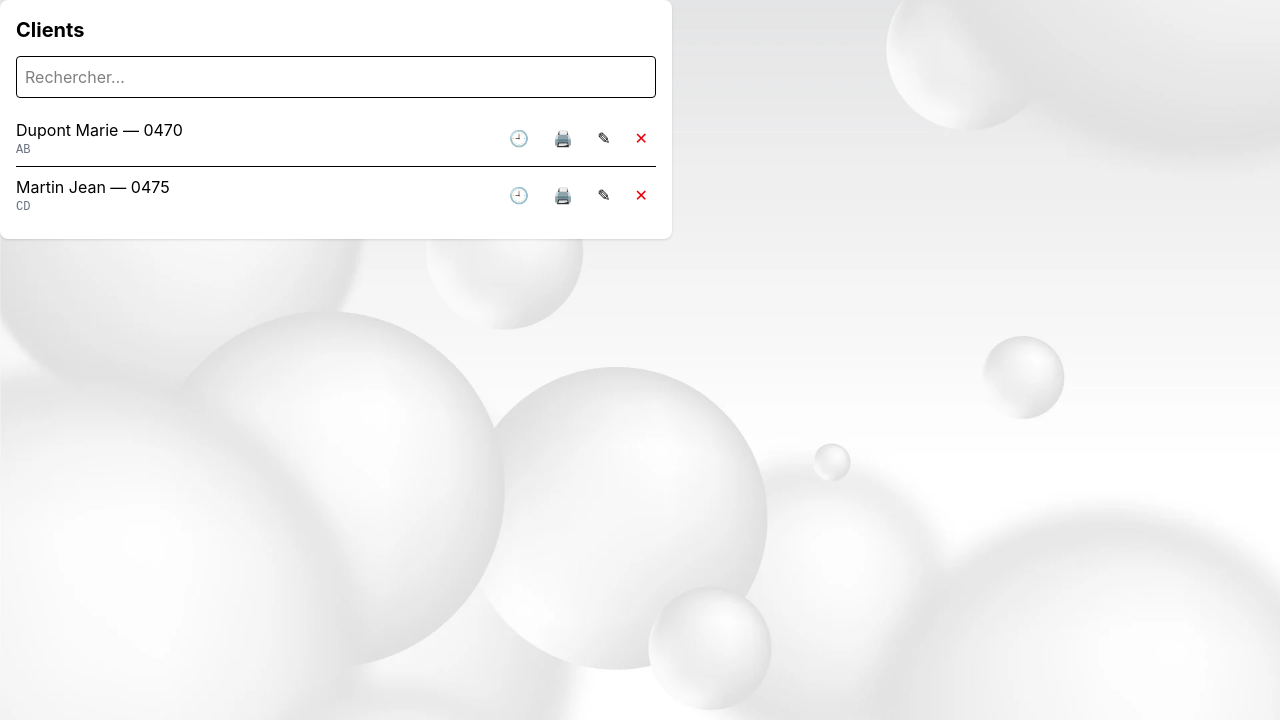
Test: Clients › clic 🖨 réimprime l’étiquette du client de la ligne
Click the button named "Réimprimer l’étiquette".
click(563, 138)  # box [545,122,581,154]
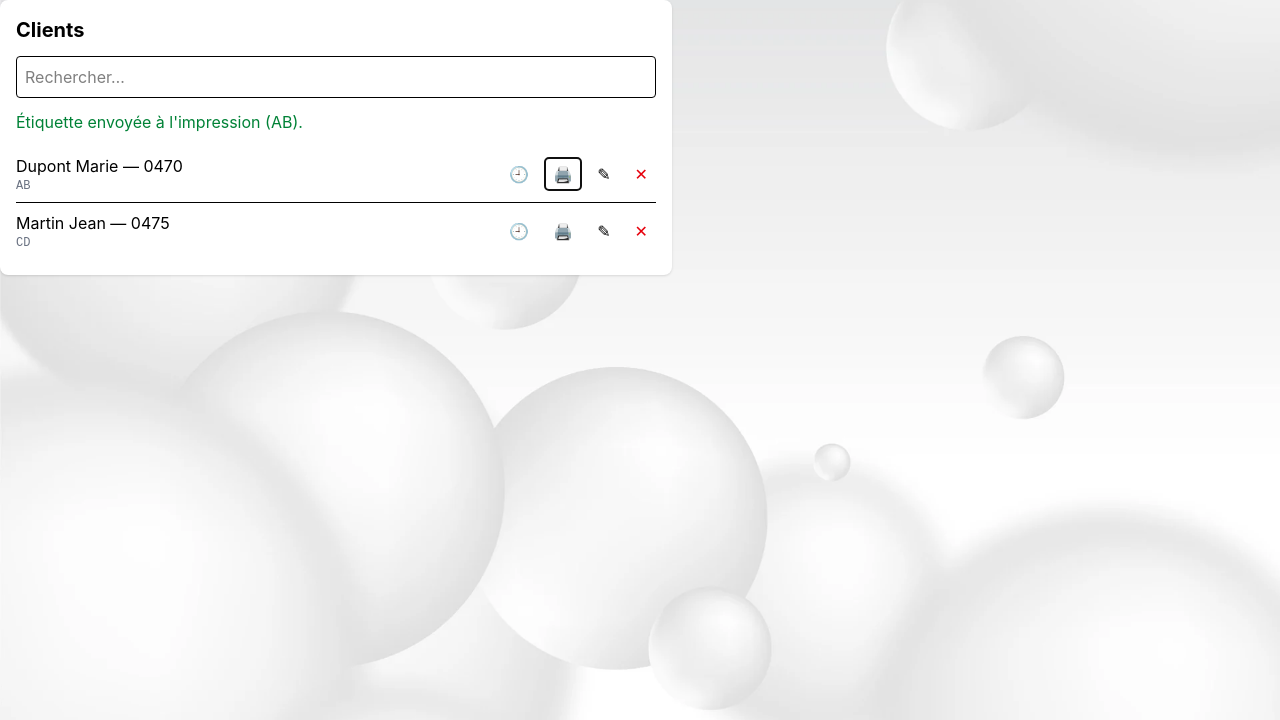
Expected: the text "Étiquette envoyée à l'impression (AB)." is shown, [16,112,303,132]
